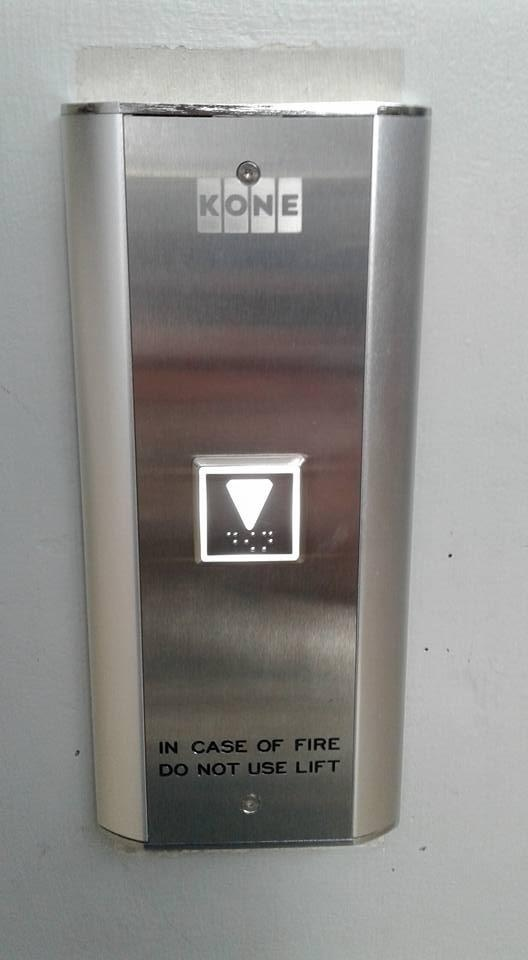down: (190, 452, 308, 569)
